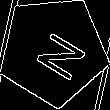N_NW: (22, 20, 85, 81)
